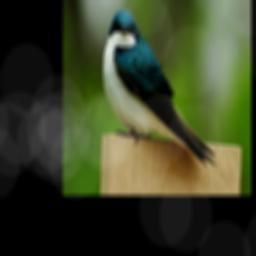Swallow: (101, 8, 218, 168)
